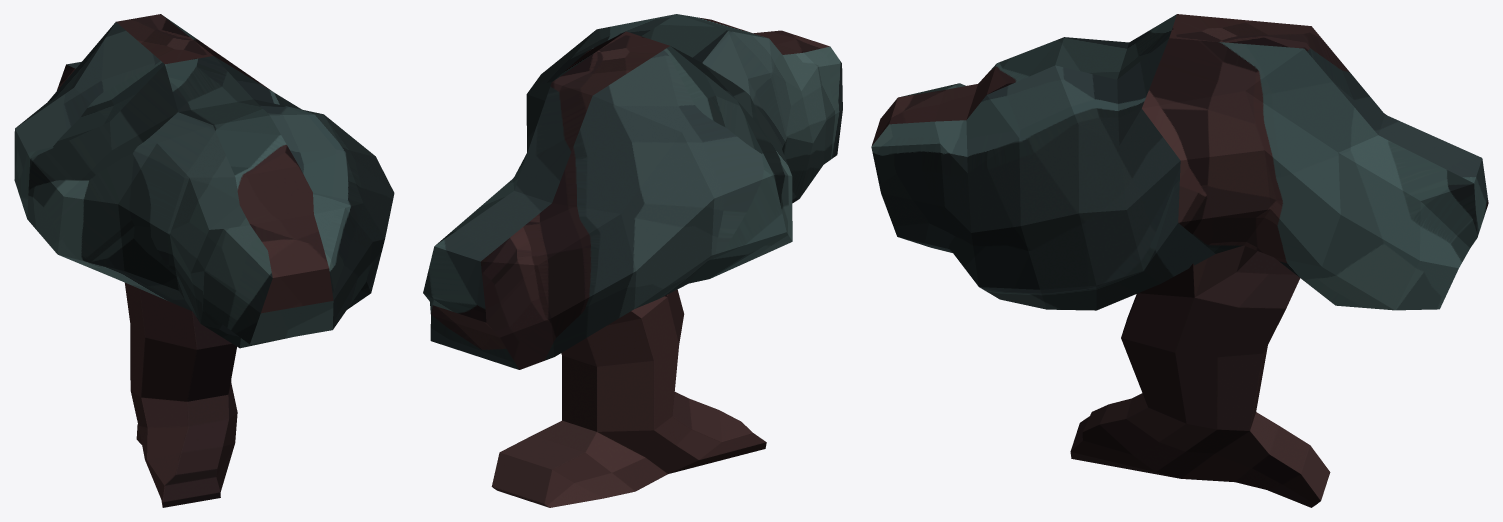
The model's file is Olive1.obj.
3 renders of one model, left to right at view 1: azimuth 30°, elevation 25°; view 2: azimuth 150°, elevation 25°; view 3: azimuth 270°, elevation 25°, orthographic. The views are drawn at different scales.
Visible parts, largest first — view 1: Olive1; view 2: Olive1; view 3: Olive1.
Part boxes in pixels (box(x1,y1,x2,y2)): Olive1: box(14, 14, 394, 507); Olive1: box(423, 14, 842, 507); Olive1: box(871, 14, 1488, 507).
Bounding box in the file's own units: 5.33 × 7.03 × 8.93.
1 material, 1 textured.
